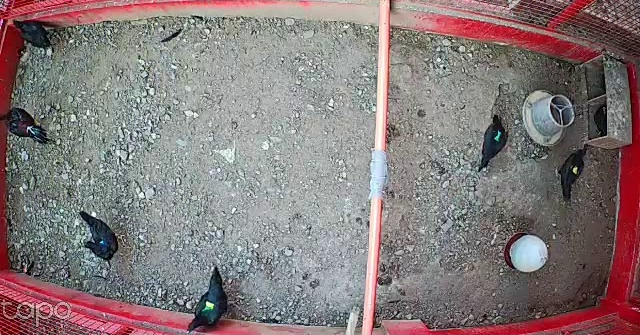Chicken: (188, 258, 245, 331), (74, 209, 119, 263), (476, 113, 512, 172), (550, 147, 588, 201), (11, 13, 60, 52)
Rooster: (0, 101, 57, 143)
Saddle_Color_Blue: (98, 239, 106, 245)
Saddle_Color_Green: (494, 131, 504, 143)
Saddle_Color_Yellow: (570, 164, 579, 176)
Saddle_Color_YellowGreen: (201, 300, 217, 315)
